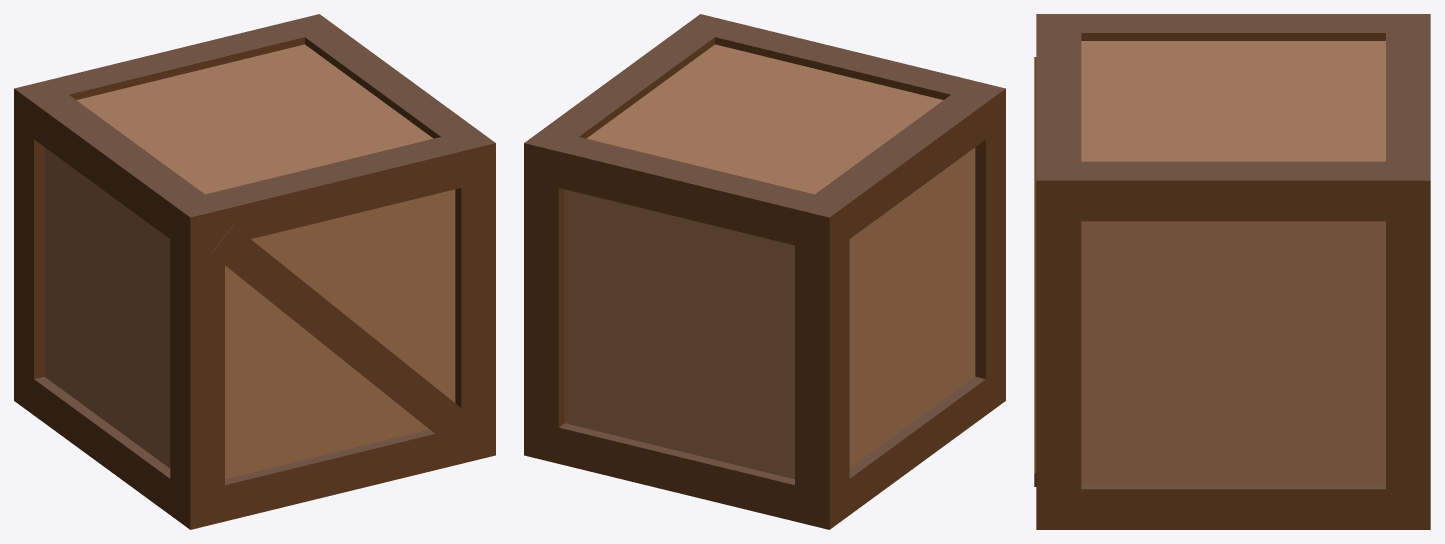
Rendered from crate.glb.
The picture shows the model from 3 angles, left to right: view 1: azimuth 30°, elevation 25°; view 2: azimuth 150°, elevation 25°; view 3: azimuth 270°, elevation 25°; orthographic projection. The views are drawn at different scales.
Parts seen in each view (by area): view 1: crate; view 2: crate; view 3: crate.
Part boxes in pixels (bbox=[...]): crate: bbox=[14, 14, 495, 529]; crate: bbox=[524, 14, 1005, 529]; crate: bbox=[1034, 14, 1430, 529].
Bounding box in the file's own units: 0.88 × 0.86 × 0.885.
